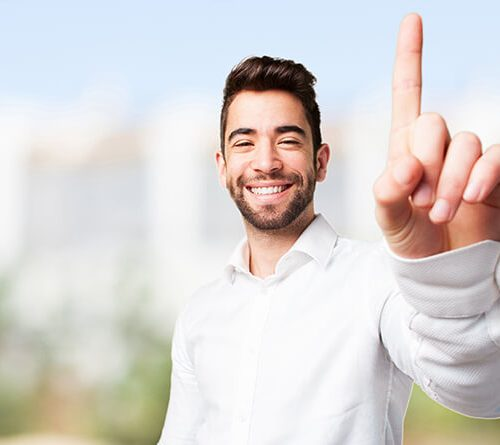human: (161, 10, 500, 445)
